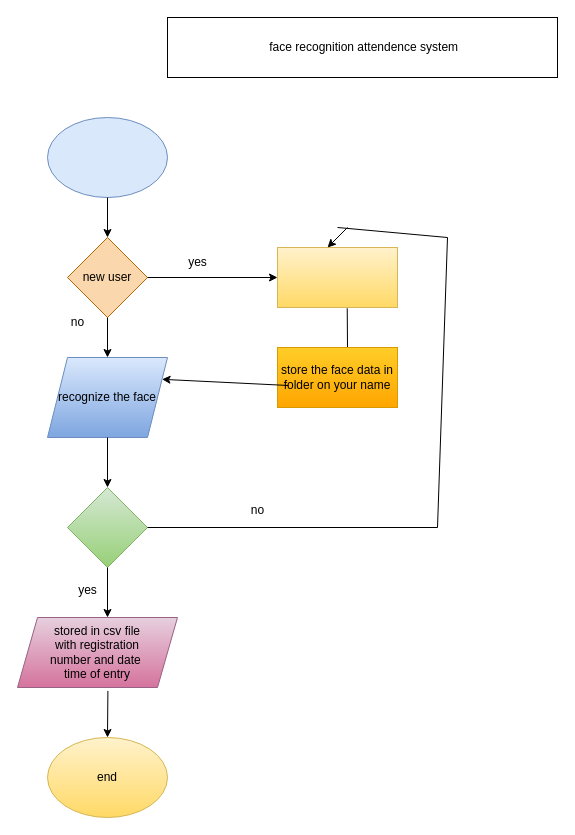
Image size: 575x835. Some labels were removed from this diagram. Each missing label, with the centre of its shape:
"face recognize" goes at (x=107, y=527).
"give your photograph" goes at (x=337, y=277).
"start" goes at (x=107, y=157).
